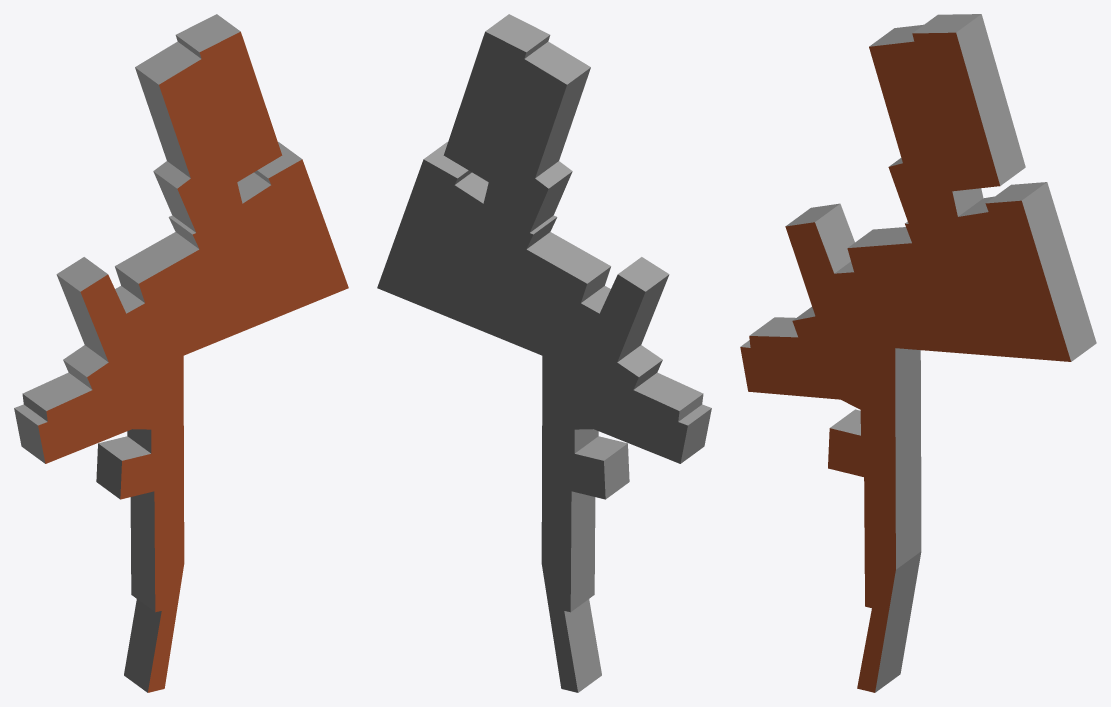
The model's file is construction_4152_assumed_A_Casa_h6m.obj.
3 renders of one model, left to right at view 1: azimuth 30°, elevation 25°; view 2: azimuth 150°, elevation 25°; view 3: azimuth 330°, elevation 25°, orthographic. The views are drawn at different scales.
Visible parts, largest first — view 1: construction_4152_assumed_A_Casa; view 2: construction_4152_assumed_A_Casa; view 3: construction_4152_assumed_A_Casa.
Boxes of the visible parts, x1,y1,x2,y2 form: construction_4152_assumed_A_Casa: (14,14,348,692); construction_4152_assumed_A_Casa: (377,14,711,692); construction_4152_assumed_A_Casa: (740,14,1096,692).
Bounding box in the file's own units: 44.91 × 88.17 × 6.
